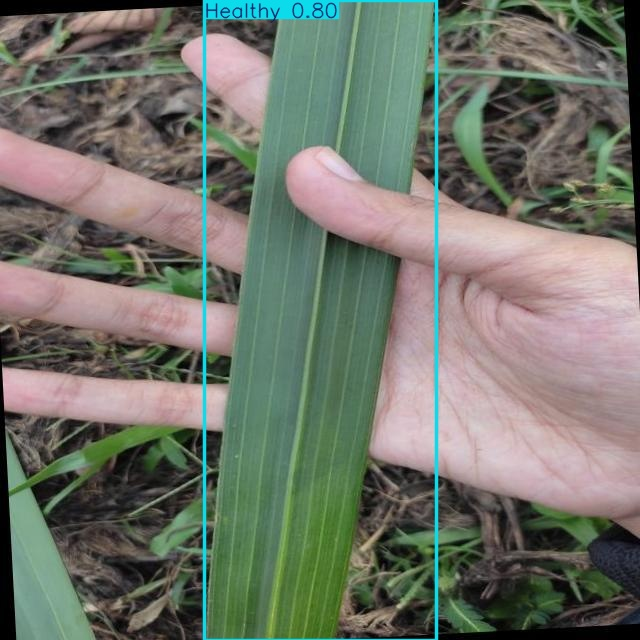Healthy: (205, 0, 437, 640)
